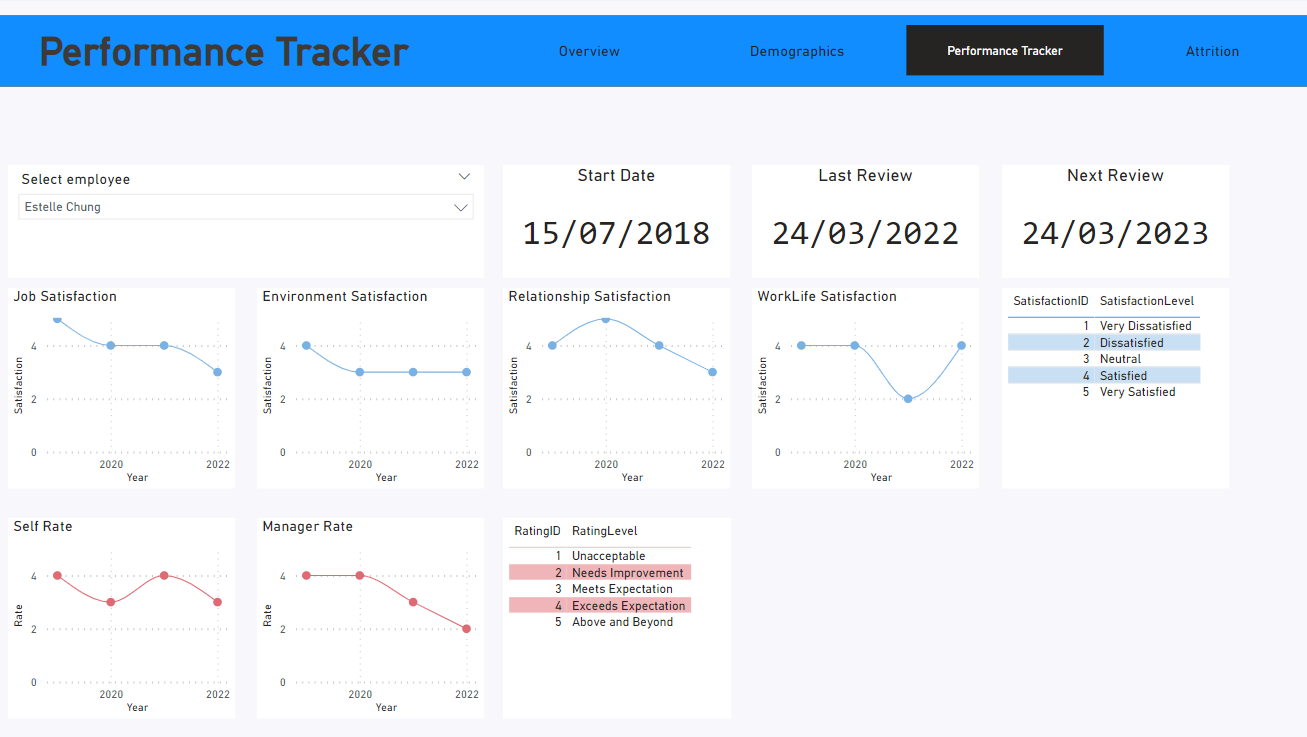

The page's visual inventory and layout, read from the dashboard file:
{"tool":"powerbi","page":{"name":"Performance Tracker","canvas":[1280,720],"ordinal":2},"visuals":[{"type":"slicer","fields":{"Values":["DimEmployee.FullName"]},"box":[9.7,163.4,463,109.9],"z":0},{"type":"card","title":"Start Date","fields":{"Values":["Min(DimEmployee.HireDate)"]},"box":[491.2,163.4,220.8,109.9],"z":1000},{"type":"card","title":"Next Review","fields":{"Values":["_Measures.NextReviewDate"]},"box":[976.5,163.4,220.8,109.9],"z":2000},{"type":"card","title":"Last Review","fields":{"Values":["_Measures.LastReviewDate"]},"box":[733.4,163.4,220.8,109.9],"z":3000},{"type":"lineChart","title":"Job Satisfaction","fields":{"Y":["_Measures.JobSatisfaction"],"Category":["DimDate.Year"]},"box":[9.7,283,220.8,194.5],"z":4000},{"type":"lineChart","title":"Environment Satisfaction","fields":{"Y":["_Measures.EnvironmentSatisfaction"],"Category":["DimDate.Year"]},"box":[251.9,283,220.8,194.5],"z":5000},{"type":"lineChart","title":"Relationship Satisfaction","fields":{"Y":["_Measures.RelationshipSatisfaction"],"Category":["DimDate.Year"]},"box":[491.2,283,220.8,194.5],"z":6000},{"type":"lineChart","title":"WorkLife Satisfaction","fields":{"Y":["_Measures.WorkLifeBalance"],"Category":["DimDate.Year"]},"box":[733.4,283,220.8,194.5],"z":7000},{"type":"lineChart","title":"Self Rate","fields":{"Y":["_Measures.SelfRating"],"Category":["DimDate.Year"]},"box":[9.7,506.7,220.8,194.5],"z":8000},{"type":"lineChart","title":"Manager Rate","fields":{"Y":["_Measures.ManagerRating"],"Category":["DimDate.Year"]},"box":[251.9,506.7,220.8,194.5],"z":9000},{"type":"tableEx","fields":{"Values":["DimRatingLevel.RatingID","DimRatingLevel.RatingLevel"]},"box":[491.2,506.7,221.8,194.5],"z":10000},{"type":"tableEx","fields":{"Values":["DimSatisfiedLevel.SatisfactionID","DimSatisfiedLevel.SatisfactionLevel"]},"box":[976.5,283,220.8,194.5],"z":11000},{"type":"shape","box":[0,17.5,1280,70],"z":12000},{"type":"textbox","box":[35,25.3,427,54.5],"z":13000},{"type":"pageNavigator","box":[479.5,27.2,800.5,49.6],"z":13001}]}

Visuals, with their boxes in screenshot pixels (x1, y1, x2, y2), scaled from the page's 1280x720 canvas onto the 1307x737 screenshot:
slicer - DimEmployee.FullName: [x1=10, y1=167, x2=483, y2=280]
"Start Date" card: [x1=502, y1=167, x2=727, y2=280]
"Next Review" card: [x1=997, y1=167, x2=1223, y2=280]
"Last Review" card: [x1=749, y1=167, x2=974, y2=280]
"Job Satisfaction" lineChart: [x1=10, y1=290, x2=235, y2=489]
"Environment Satisfaction" lineChart: [x1=257, y1=290, x2=483, y2=489]
"Relationship Satisfaction" lineChart: [x1=502, y1=290, x2=727, y2=489]
"WorkLife Satisfaction" lineChart: [x1=749, y1=290, x2=974, y2=489]
"Self Rate" lineChart: [x1=10, y1=519, x2=235, y2=718]
"Manager Rate" lineChart: [x1=257, y1=519, x2=483, y2=718]
tableEx - DimRatingLevel.RatingID x DimRatingLevel.RatingLevel: [x1=502, y1=519, x2=728, y2=718]
tableEx - DimSatisfiedLevel.SatisfactionID x DimSatisfiedLevel.SatisfactionLevel: [x1=997, y1=290, x2=1223, y2=489]
shape: [x1=0, y1=18, x2=1306, y2=90]
textbox: [x1=36, y1=26, x2=472, y2=82]
pageNavigator: [x1=490, y1=28, x2=1306, y2=79]
